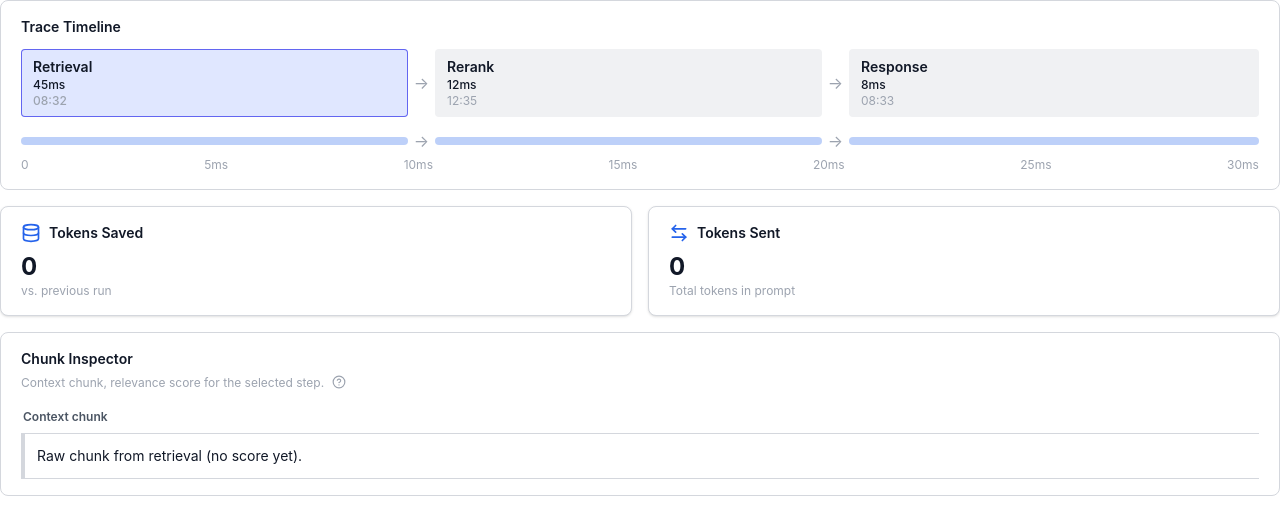
it: TraceView › shows responseNodes sample chunk when Response step is selected and trace has responseNodes
Click the button "Response 8ms 08:33". click: (894, 66)
box: [849,49,1259,117]
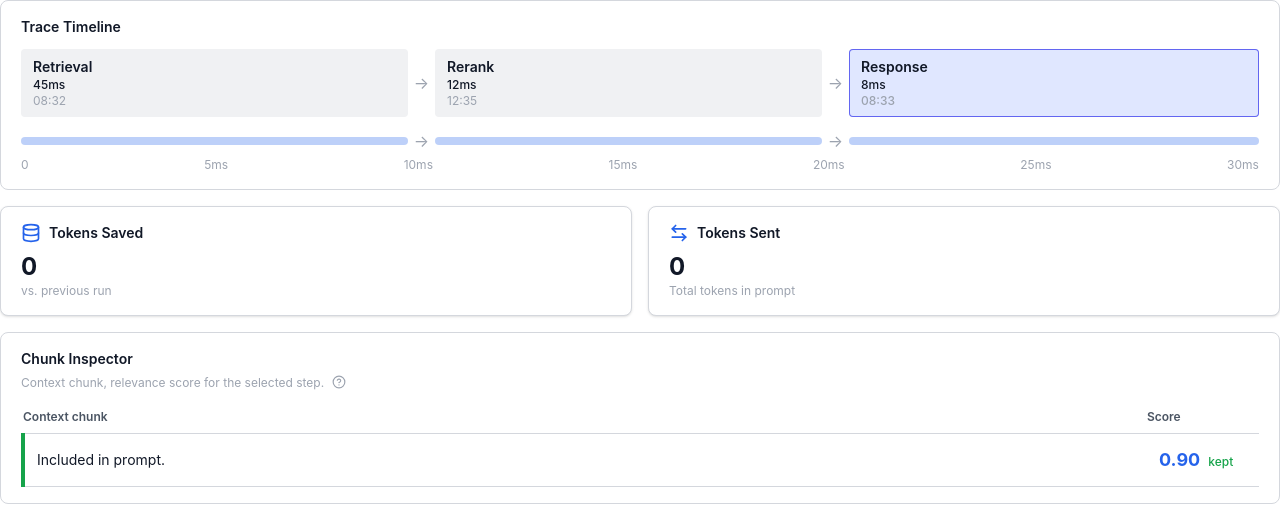
Expected: the button "Included in prompt." is shown, [37,450,1135,470]
